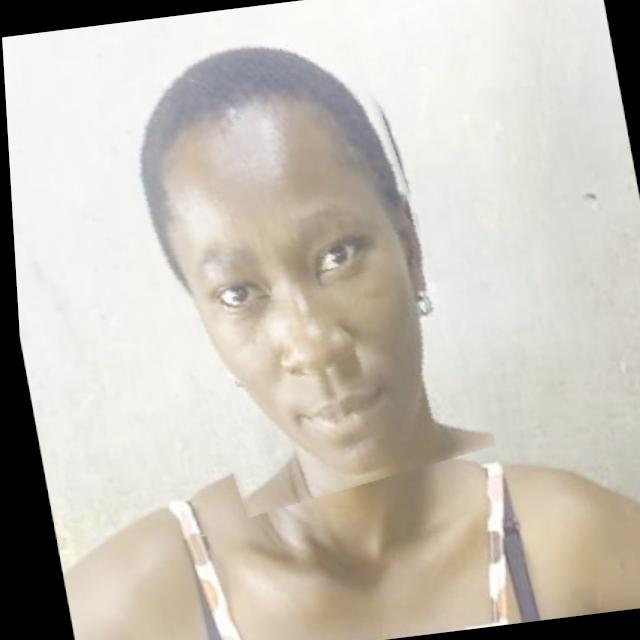sad: (106, 16, 482, 516)
